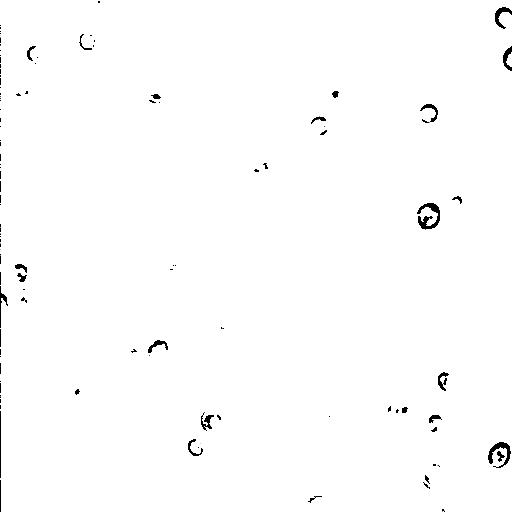micro-algae: (73, 405, 132, 465), (407, 212, 450, 254), (377, 17, 417, 62), (121, 337, 153, 369), (323, 79, 349, 110), (3, 76, 35, 101), (387, 395, 417, 420), (419, 462, 447, 488), (486, 440, 511, 469), (64, 376, 89, 403), (1, 265, 18, 304), (24, 43, 51, 67), (145, 338, 169, 365), (418, 201, 441, 229), (13, 289, 38, 312), (246, 155, 273, 176), (433, 495, 465, 512), (305, 493, 333, 512), (199, 409, 224, 430), (309, 113, 329, 137), (163, 262, 184, 283), (7, 262, 29, 282), (419, 103, 439, 125), (493, 5, 512, 27), (78, 32, 98, 51), (187, 438, 206, 457), (439, 371, 456, 390), (82, 0, 105, 14), (501, 43, 511, 73), (449, 194, 464, 209), (1, 291, 10, 315)
